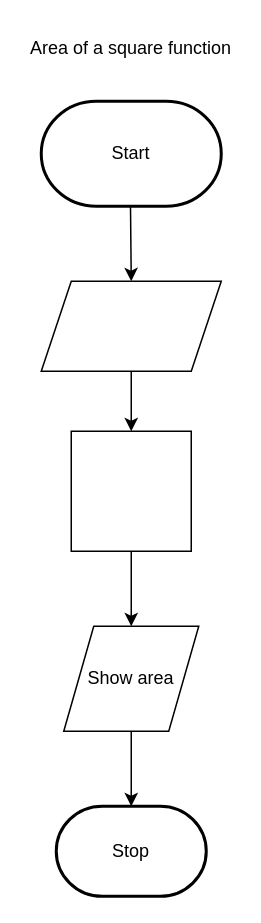
Image size: 261x923. Some labels were removed from this diagram. Here are the shapes that lost their labels. From the top down, the centre of each, then its label:
At point (130, 325): "Enter in length of square".
At point (130, 490): "Area = length * length".
